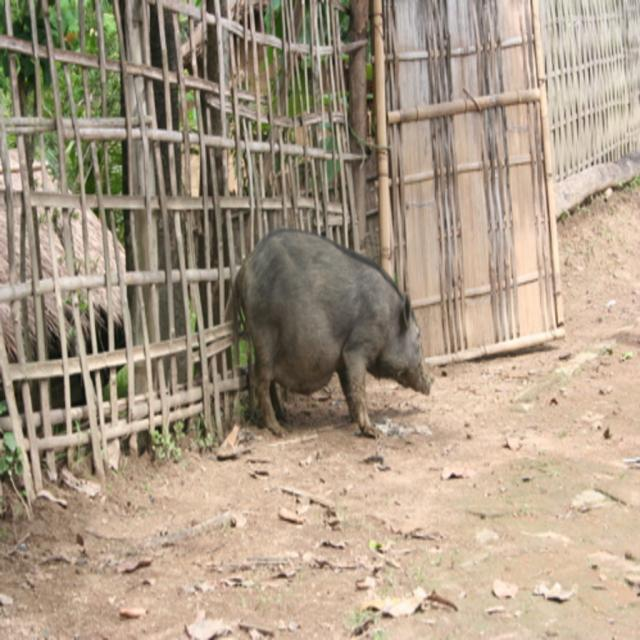Pig: (234, 229, 435, 438)
